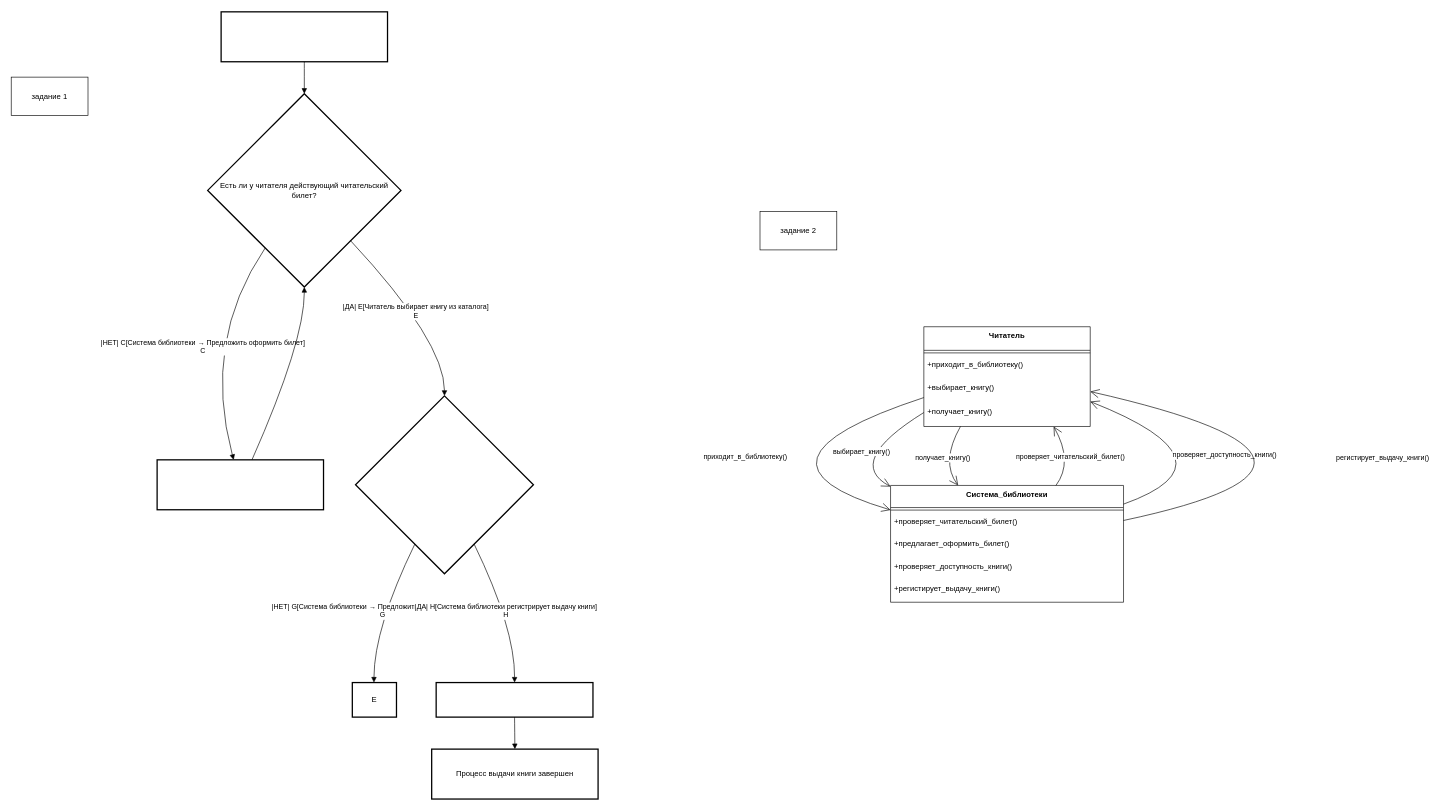
Image size: 1441x810. Some labels were removed from this diagram. Each missing label, with the centre of its shape:
"Доступна ли выбранная книга?" goes at point (444, 484).
"Читатель оформляет билет" goes at point (240, 484).
"Читатель получает книгу" goes at point (514, 699).
"Читатель приходит в библиотеку" goes at point (304, 36).
